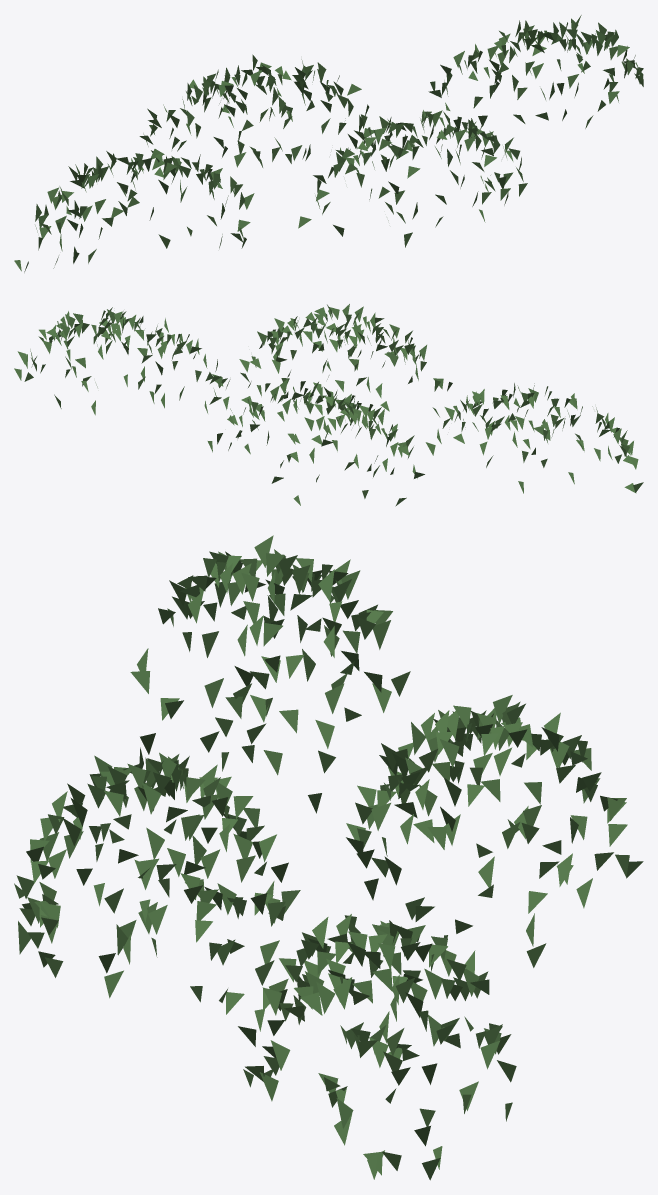
Rendered from teaching3-vegetation-03-medium.glb.
3 views of the same model, one above another, from view 1: azimuth 30°, elevation 25°; view 2: azimuth 150°, elevation 25°; view 3: azimuth 270°, elevation 25° (orthographic). The views are drawn at different scales.
Parts seen in each view (by area): view 1: shrubs.003; view 2: shrubs.003; view 3: shrubs.003.
Boxes of the visible parts, x1,y1,x2,y2 form: shrubs.003: [14, 15, 643, 272]; shrubs.003: [14, 304, 643, 506]; shrubs.003: [14, 535, 643, 1180].
Bounding box in the file's own units: 11.82 × 1.68 × 5.53.
